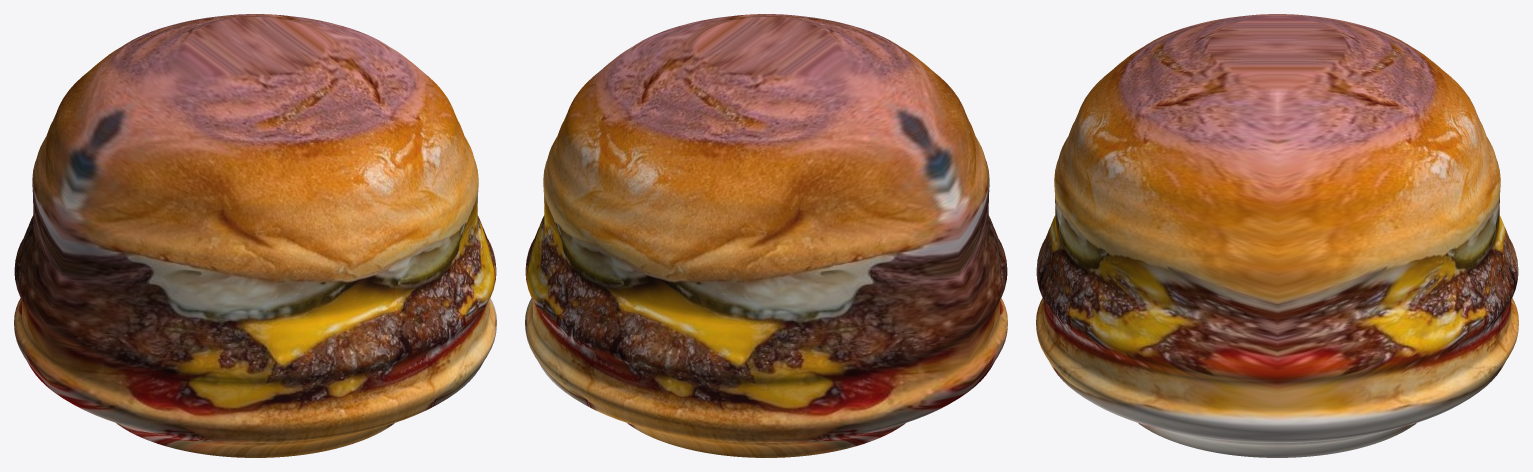
Rendered from cheeseburger.glb.
3 views of the same model, side by side, from view 1: azimuth 30°, elevation 25°; view 2: azimuth 150°, elevation 25°; view 3: azimuth 270°, elevation 25° (orthographic).
Parts seen in each view (by area): view 1: Dish; view 2: Dish; view 3: Dish.
Part boxes in pixels (x1,y1,x2,y2): Dish: (14,14,496,457); Dish: (525,14,1007,457); Dish: (1036,14,1518,457).
Bounding box in the file's own units: 0.11 × 0.0867 × 0.11.
2 materials, 1 textured.
